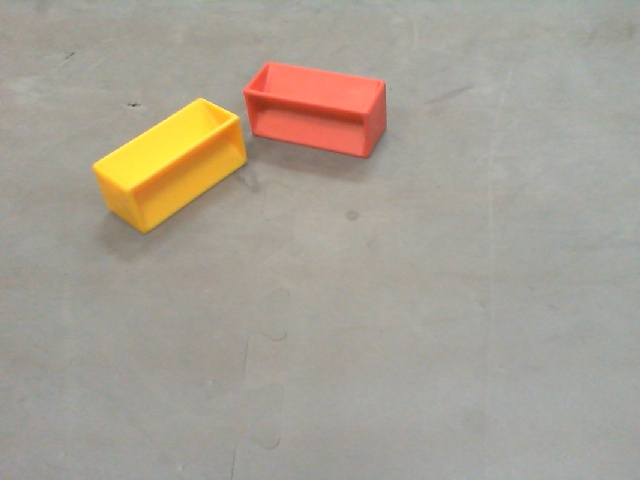RedSample: (244, 58, 388, 162)
YellowSample: (92, 88, 249, 236)
